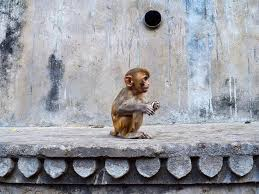monkey: (108, 33, 155, 145)
